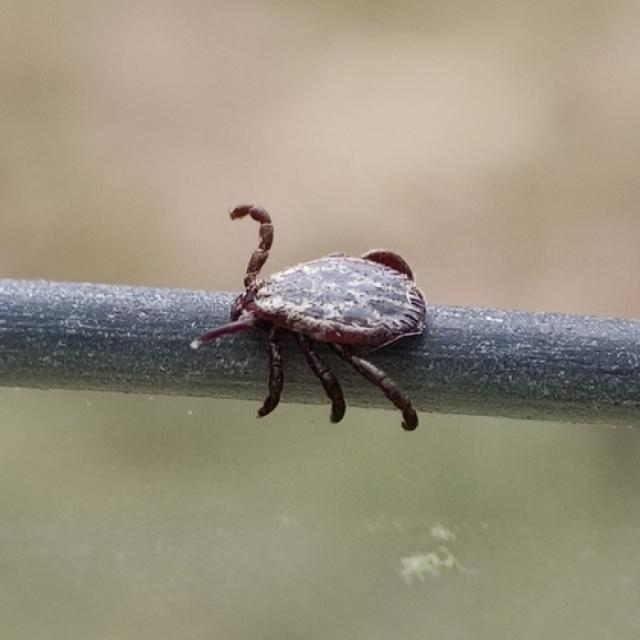Dermacentor Reticulatus-M: (191, 207, 429, 432)
